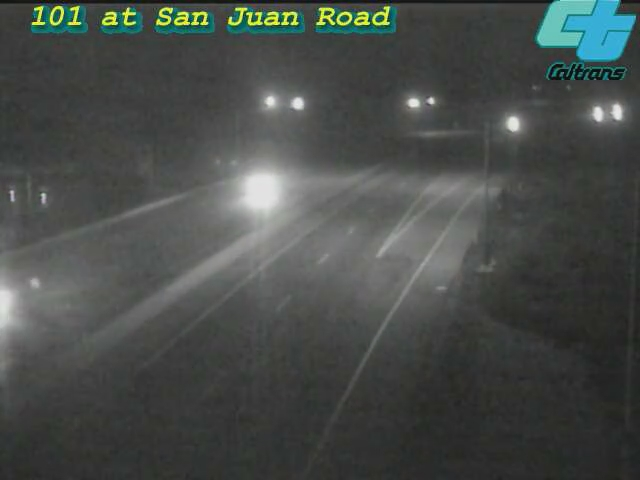vehicle: (221, 152, 301, 232), (1, 252, 53, 332), (488, 100, 538, 150), (573, 90, 623, 140), (593, 86, 640, 136)
